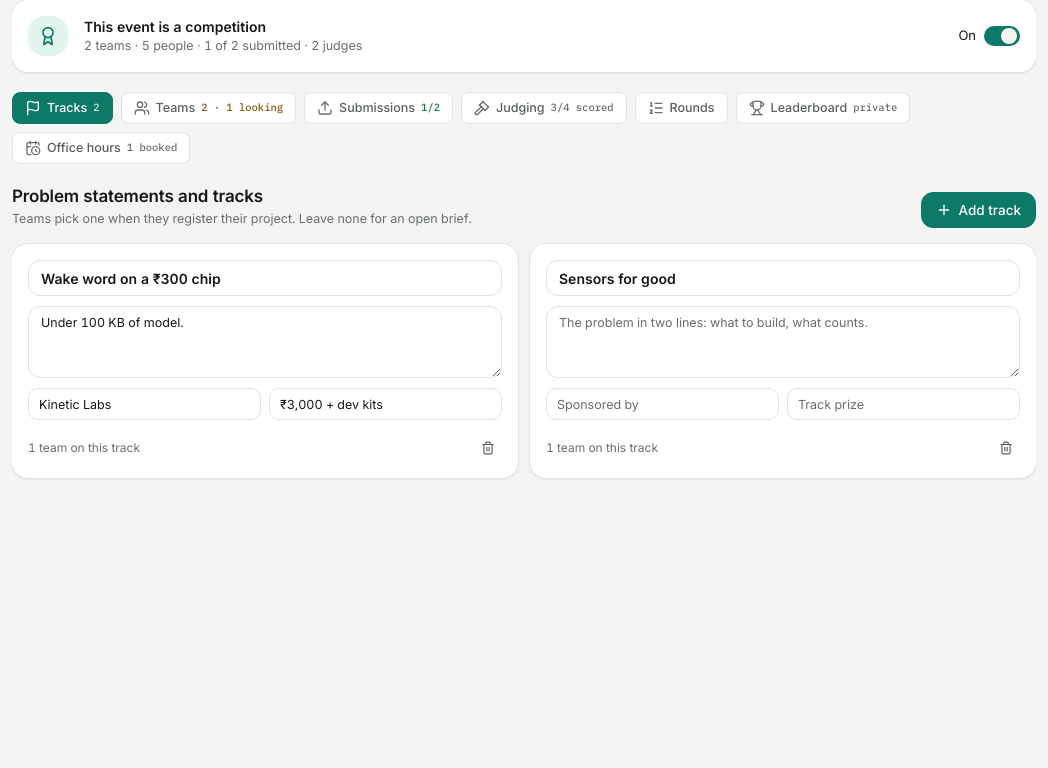
Test case: the competition tab › reads the line, the pills with their numbers, and the tracks; adds a track
The image size is (1048, 768).
Expected: the text "2 teams · 5 people · 1 of 2 submitted · 2 judges" is shown, [84,38,362,53]
Expected: the button "Teams 2 · 1 looking" is shown, [121,92,296,124]
Click the button "Add track": (979, 210) [922,192,1036,228]
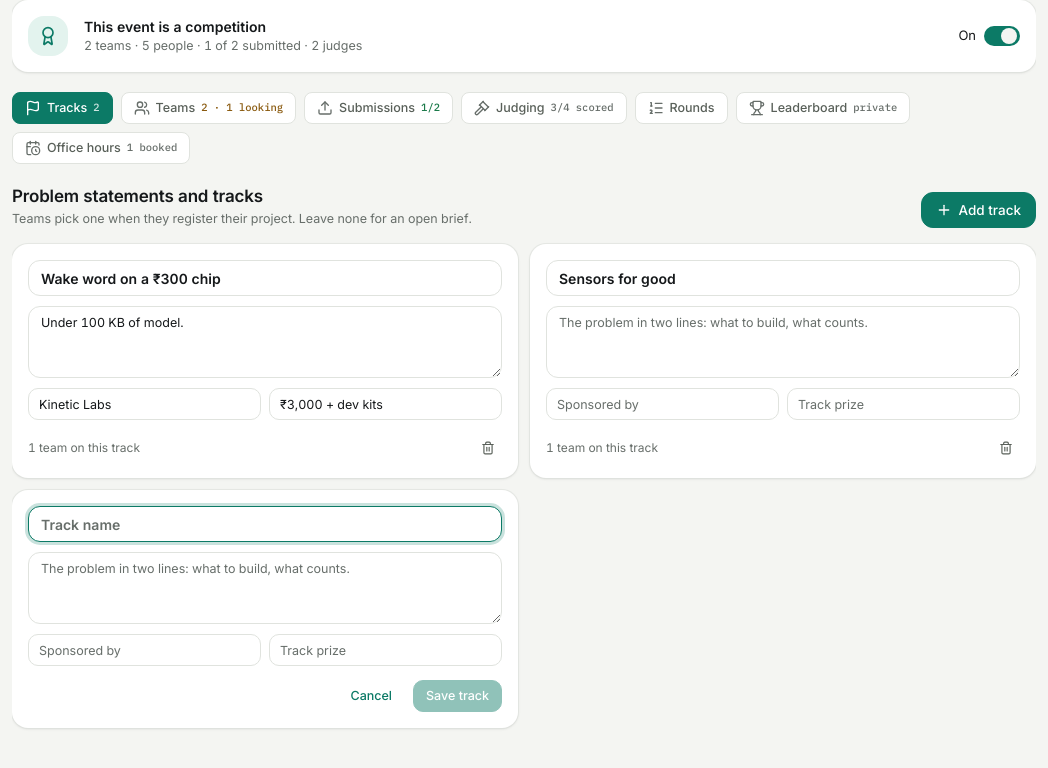
In the field named "New track name": (265, 524) [28,506,502,542], type "Open track"
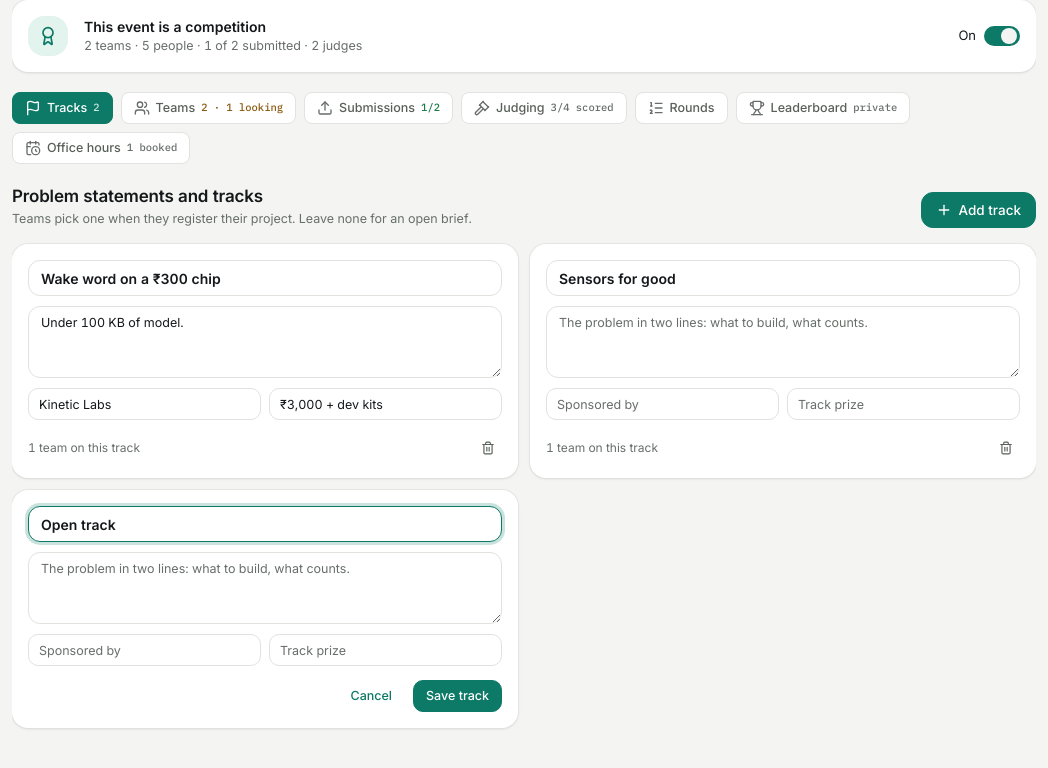
Click the button "Save track": (458, 696) [413,680,502,712]
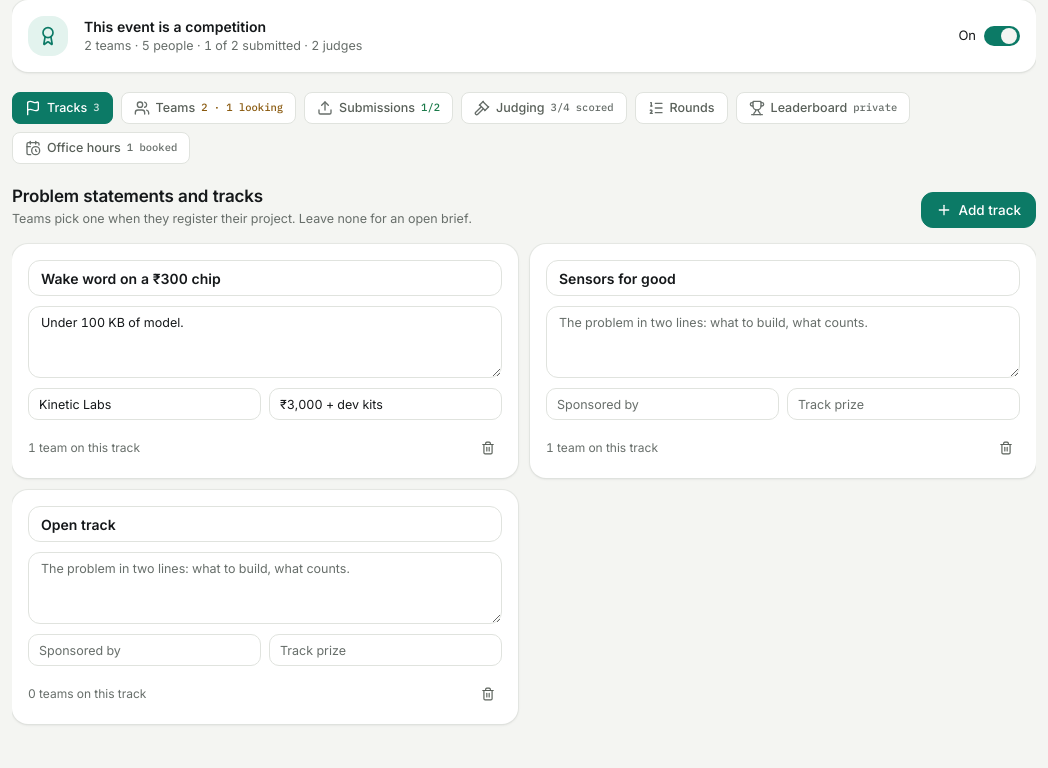
Now the field named "Open track name" is shown, box [28,506,502,542]
